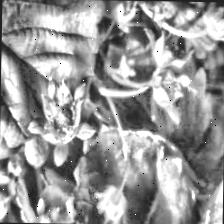Blossom Blight: (42, 86, 82, 144)
